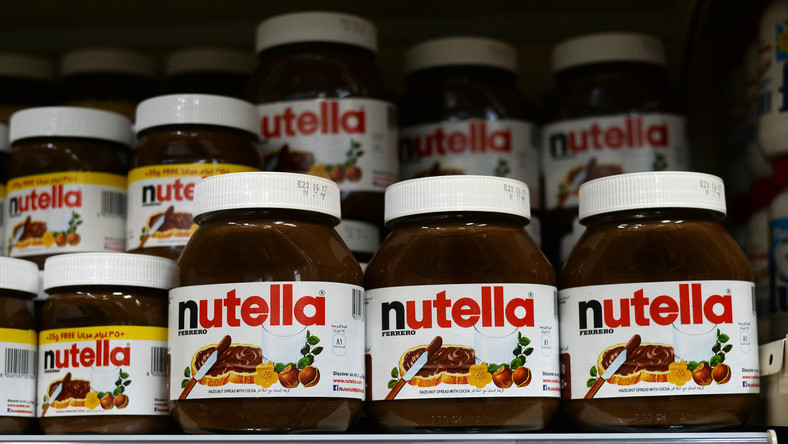nutella: (559, 170, 763, 432), (167, 170, 364, 434), (365, 176, 560, 436), (543, 34, 692, 210), (255, 11, 394, 190), (401, 35, 543, 207), (36, 253, 168, 436), (3, 104, 128, 259)
